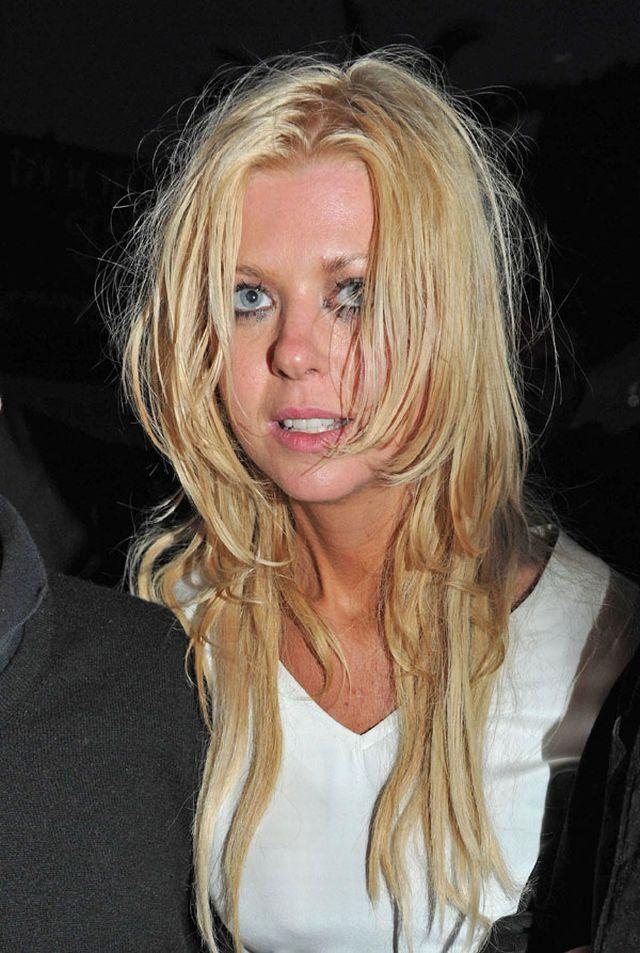Drunk: (205, 168, 407, 503)
